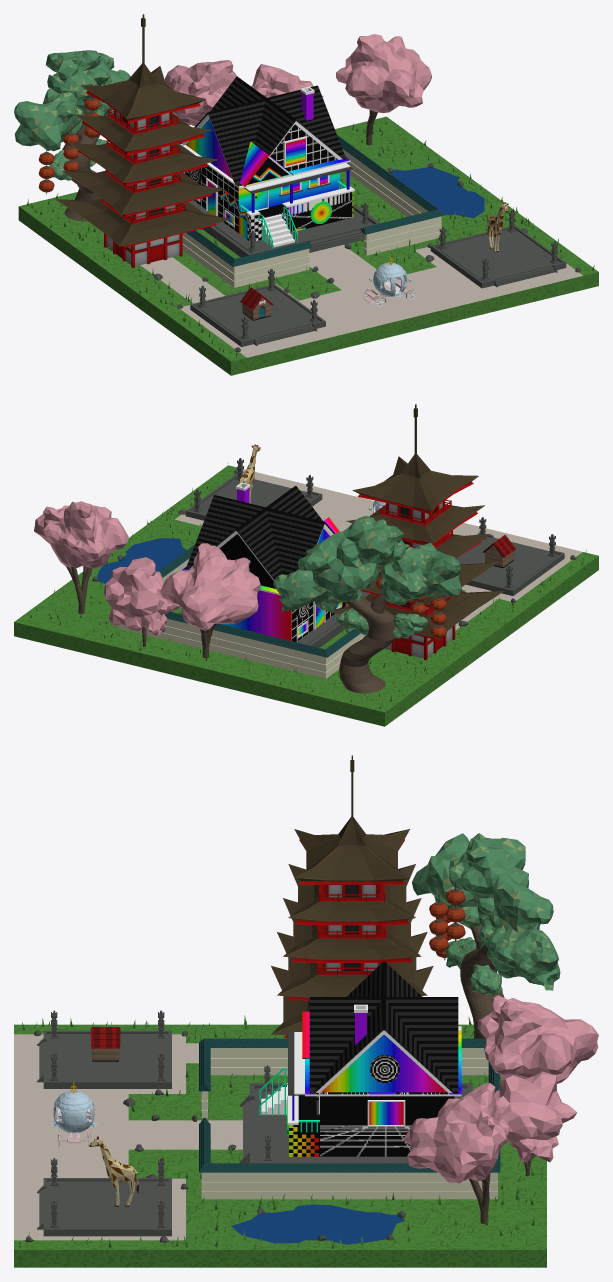
The picture shows the model from 3 angles, top to bottom: view 1: azimuth 30°, elevation 25°; view 2: azimuth 150°, elevation 25°; view 3: azimuth 270°, elevation 25°; orthographic projection. The views are drawn at different scales.
Visible parts, largest first — view 1: Cube.005, Cube.1320, VEHICLES_FANTASY_CARRIAGE, OBJRANDOM_DOGHOUSE, ANIMAL_JIRAFA; view 2: Cube.005, Cube.1320, OBJRANDOM_DOGHOUSE; view 3: Cube.005, Cube.1320, VEHICLES_FANTASY_CARRIAGE, ANIMAL_JIRAFA, OBJRANDOM_DOGHOUSE.
Part boxes in pixels (x1=…): Cube.005: x1=14, y1=14, x2=598, y2=375; Cube.1320: x1=179, y1=76, x2=354, y2=248; VEHICLES_FANTASY_CARRIAGE: x1=363, y1=254, x2=416, y2=307; OBJRANDOM_DOGHOUSE: x1=240, y1=287, x2=273, y2=320; ANIMAL_JIRAFA: x1=487, y1=202, x2=508, y2=252; Cube.005: x1=14, y1=404, x2=598, y2=726; Cube.1320: x1=182, y1=482, x2=347, y2=642; OBJRANDOM_DOGHOUSE: x1=483, y1=535, x2=515, y2=568; Cube.005: x1=14, y1=755, x2=598, y2=1267; Cube.1320: x1=259, y1=961, x2=461, y2=1156; VEHICLES_FANTASY_CARRIAGE: x1=51, y1=1081, x2=96, y2=1147; ANIMAL_JIRAFA: x1=89, y1=1136, x2=138, y2=1206; OBJRANDOM_DOGHOUSE: x1=90, y1=1027, x2=120, y2=1061.
Size of the model in its own units: 4528 by 2713 by 4389.
40 materials, 8 textured.
